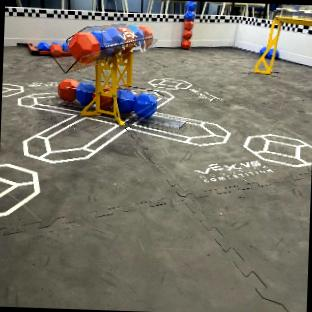V5_BLUE: (117, 90, 156, 117), (76, 83, 95, 105), (185, 1, 195, 19), (37, 43, 49, 50), (260, 47, 265, 54)
V5_RED: (70, 32, 101, 60), (59, 78, 78, 100), (141, 26, 151, 46), (184, 20, 193, 38), (181, 38, 190, 48)
redingoal: (81, 52, 97, 63)
